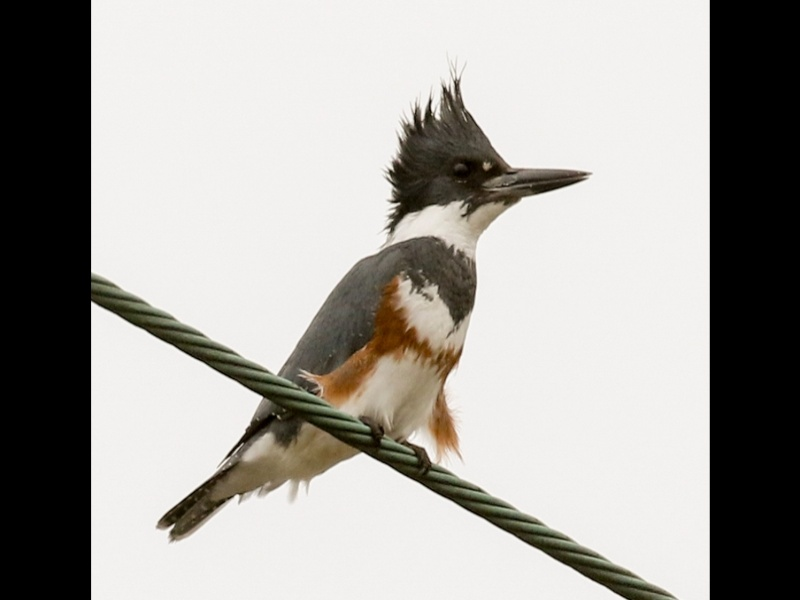kingfisher: (152, 70, 597, 550)
